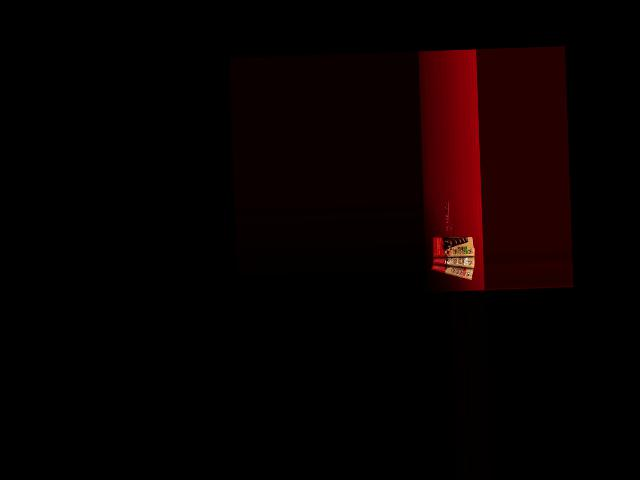chocolate: (429, 258, 476, 281)
